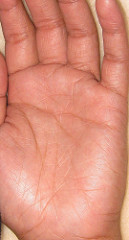palm: (8, 76, 128, 217)
